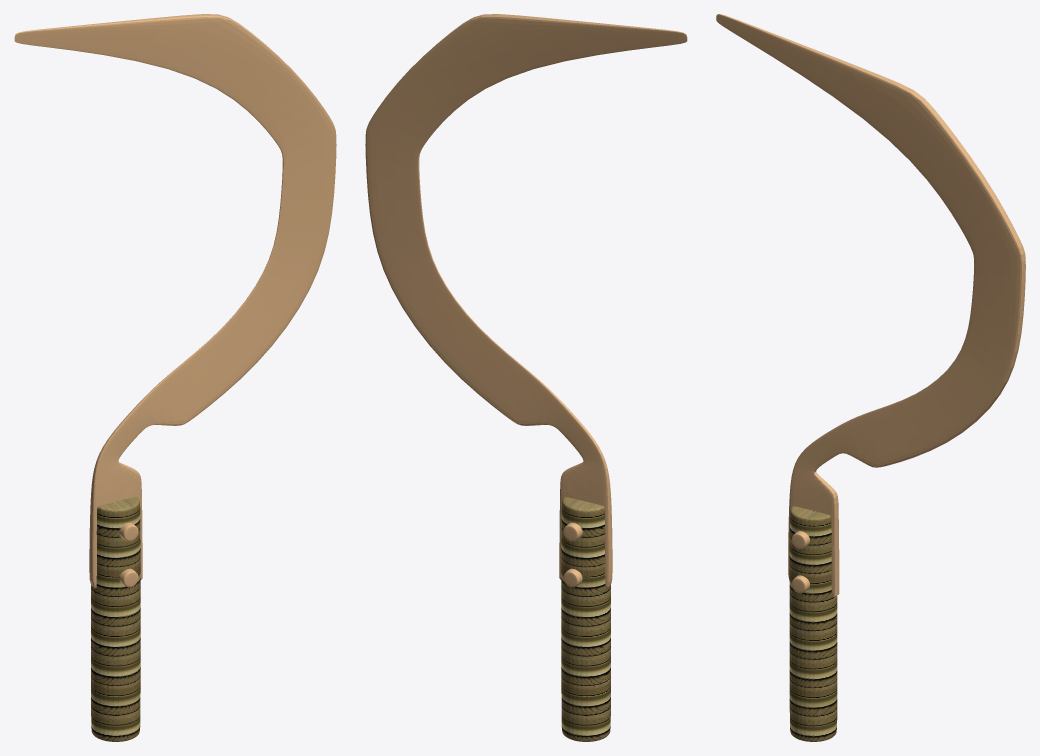
The model's file is sythe.fbx.
The picture shows the model from 3 angles, left to right: view 1: azimuth 30°, elevation 25°; view 2: azimuth 150°, elevation 25°; view 3: azimuth 330°, elevation 25°; orthographic projection. The views are drawn at different scales.
Visible parts, largest first — view 1: Cube; view 2: Cube; view 3: Cube.
Boxes of the visible parts, x1,y1,x2,y2 form: Cube: (14,14,336,741); Cube: (365,14,687,741); Cube: (716,14,1025,741).
Size of the model in its own units: 1305 by 2816 by 225.
